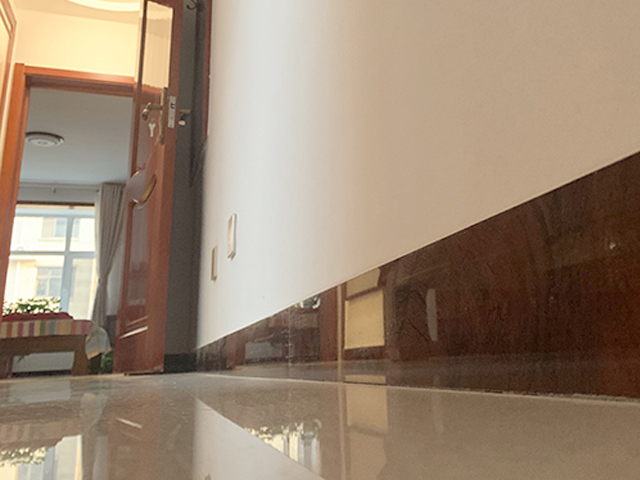bed: (2, 312, 112, 377)
